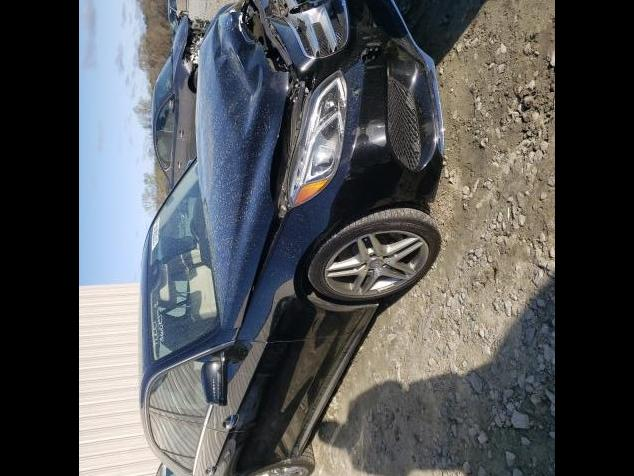Broken part: (195, 0, 316, 330), (261, 0, 352, 56)
Dent: (215, 6, 276, 144)
Missing part: (362, 45, 380, 60)
